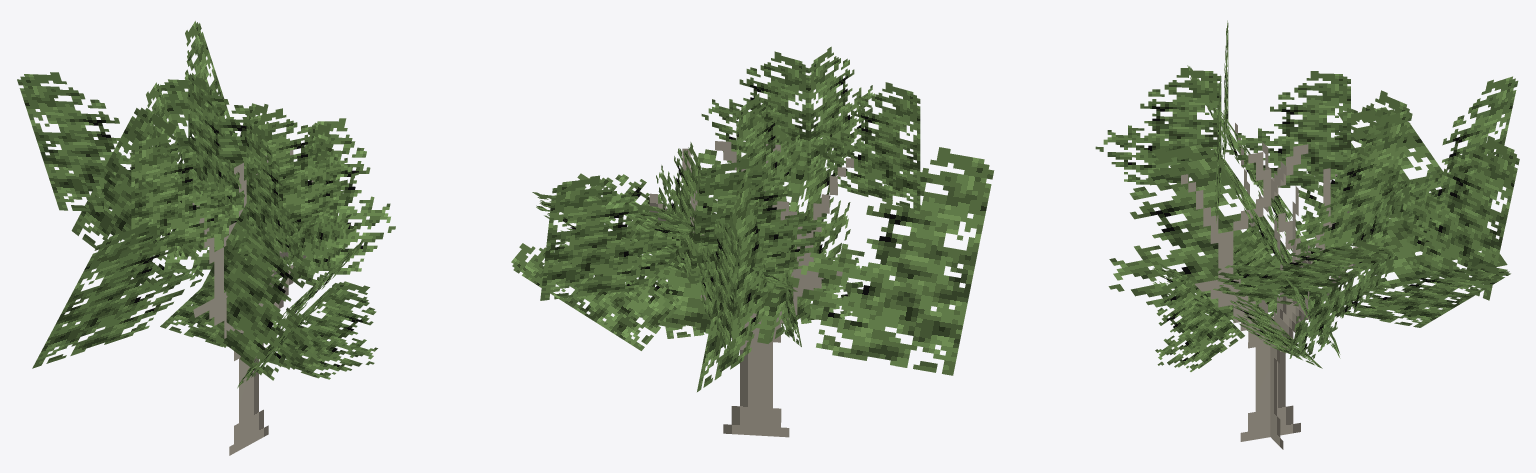
Rendered from uvmd-0100.glb.
3 renders of one model, left to right at view 1: azimuth 30°, elevation 25°; view 2: azimuth 150°, elevation 25°; view 3: azimuth 270°, elevation 25°, orthographic. The views are drawn at different scales.
Visible parts, largest first — view 1: uvmd-0100; view 2: uvmd-0100; view 3: uvmd-0100.
Boxes of the visible parts, <box> form: uvmd-0100: <box>17,21,395,455</box>; uvmd-0100: <box>511,46,994,437</box>; uvmd-0100: <box>1095,20,1519,449</box>.
Size of the model in its own units: 357 by 278 by 352.
Materials: 2 (2 with a texture image).
